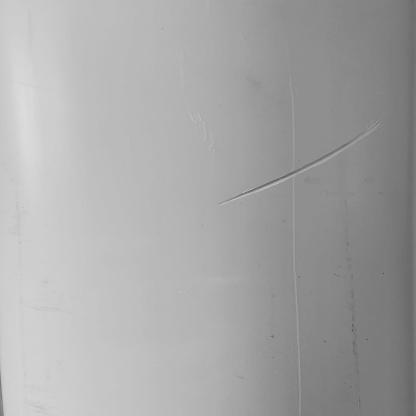sunshang: (218, 118, 384, 206)
